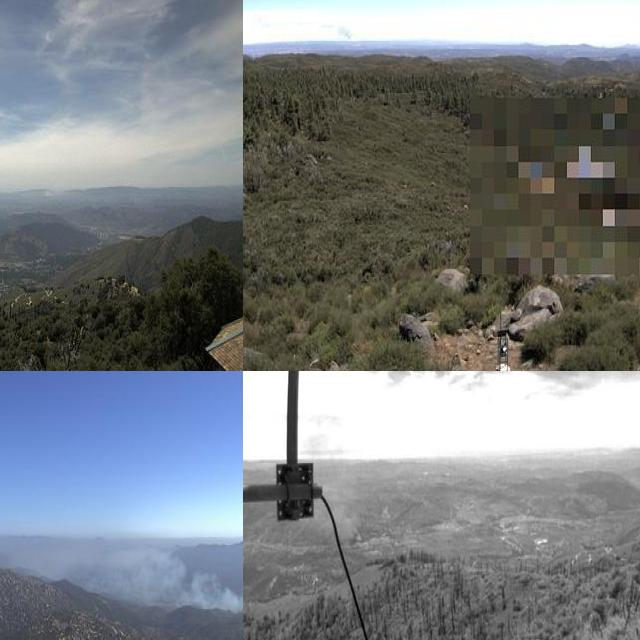smoke: (22, 534, 243, 616), (307, 404, 369, 548), (319, 13, 357, 45)
